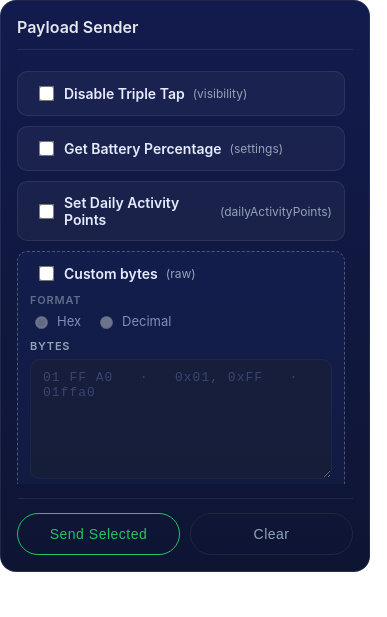
Test: DevTools › Custom Bytes › refuses to send an unparseable value
The width and height of the screenshot is (387, 617).
(page scrolled)
Step 1. Click the checkbox labelled "Custom bytes (raw)" → (46, 274), box [39,266,54,281]
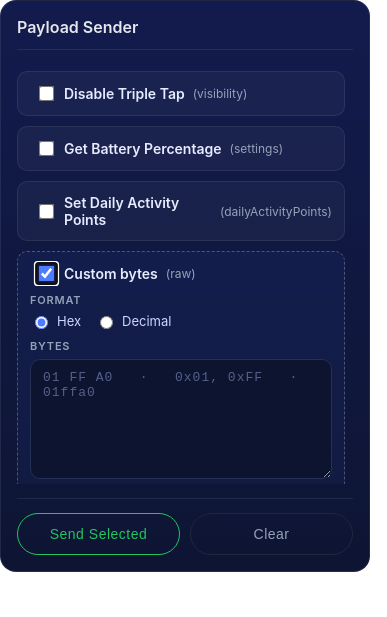
Step 2. Type "zz" into the text box labelled "Bytes" → (181, 419), box [30,359,332,479]
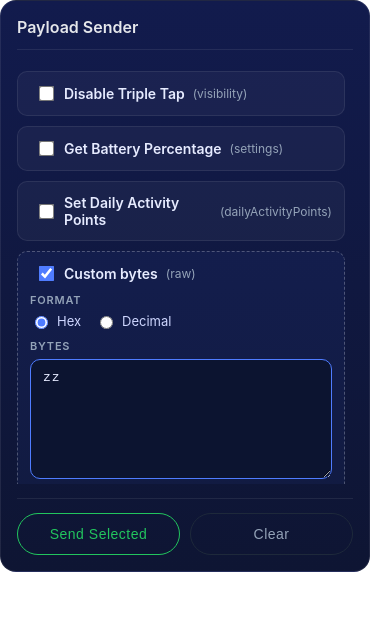
Step 3. Click the button "Send Selected" → (98, 534), box [17,513,180,555]
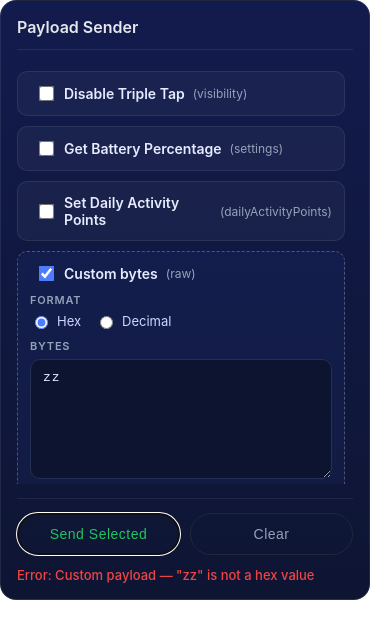
Expected: the message reads "Error: Custom payload — \"zz\" is not a hex value", [17,567,314,583]
